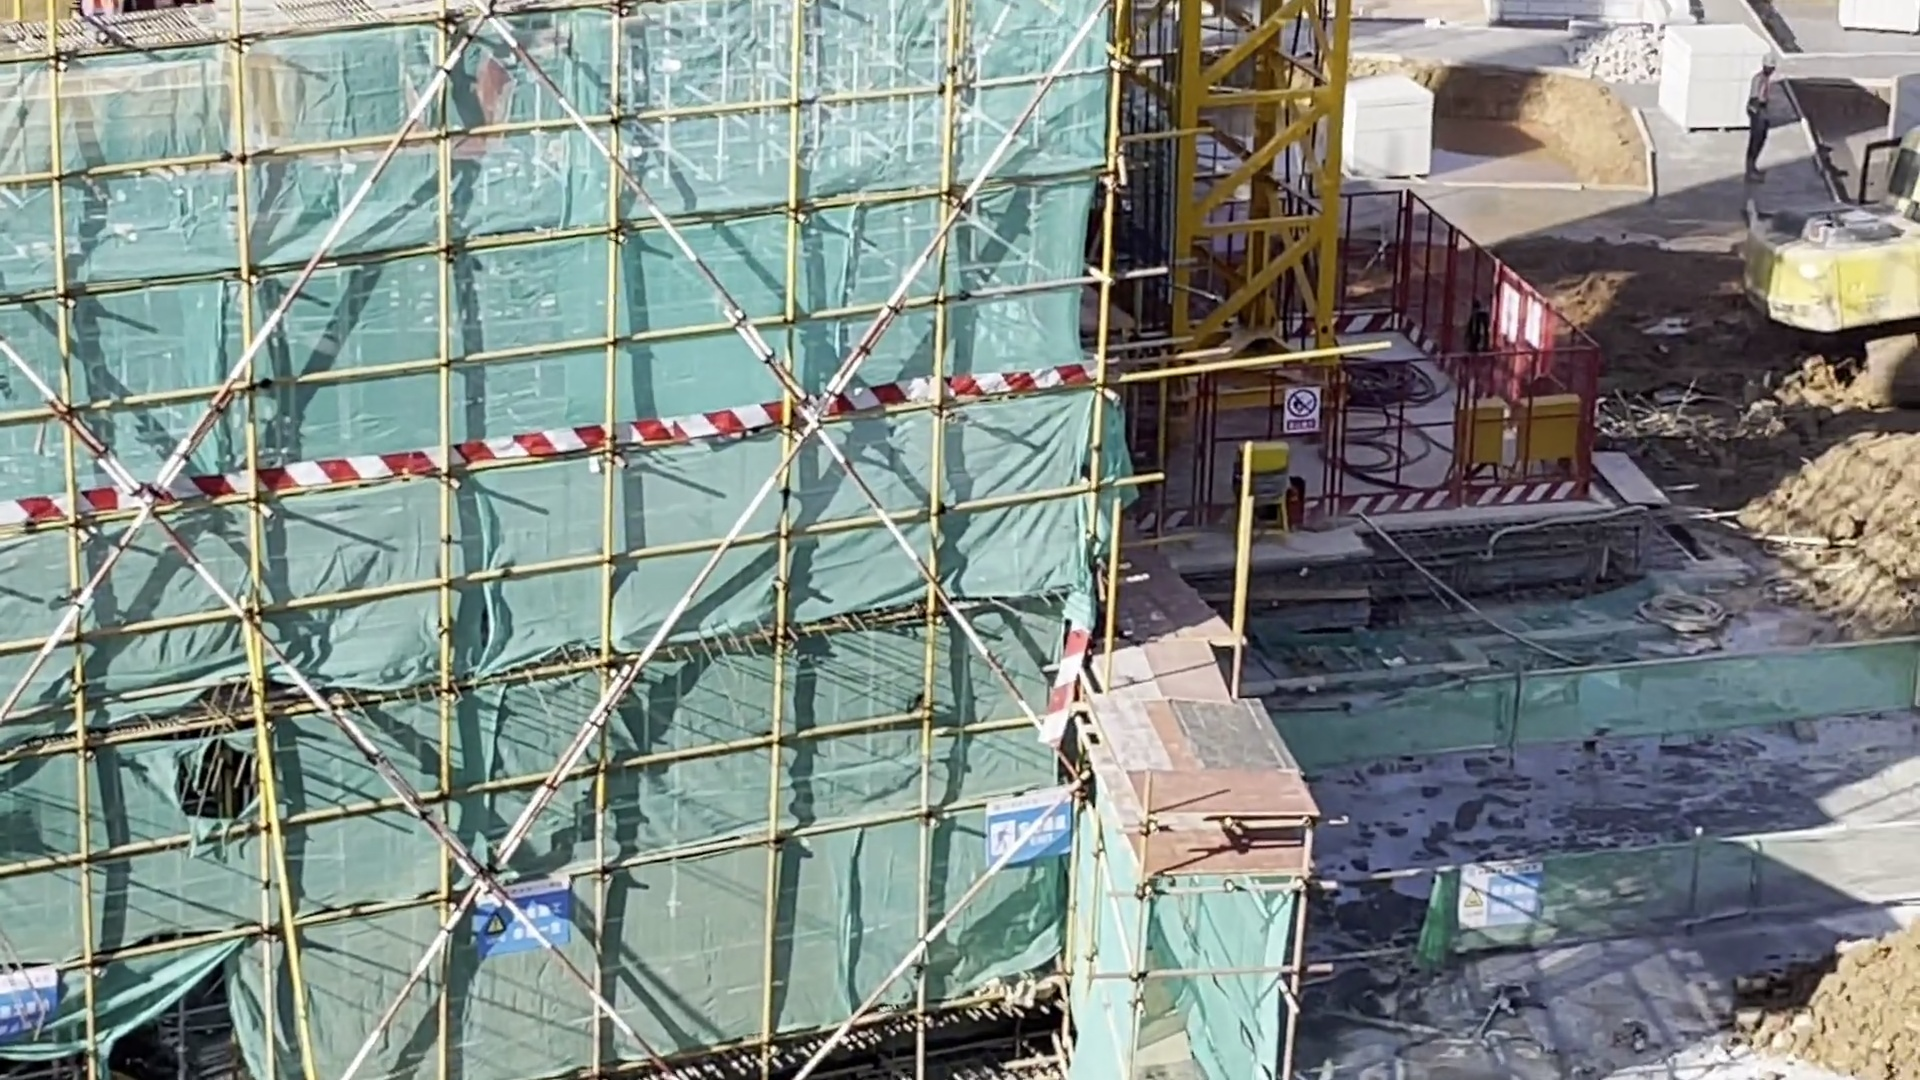slogan: (465, 866, 582, 967), (981, 785, 1083, 887), (1, 959, 76, 1042)
